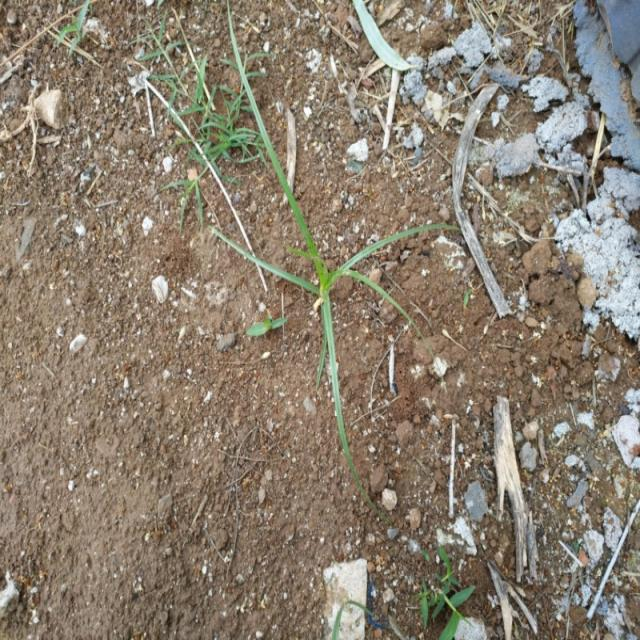sedge: (228, 56, 462, 507)
